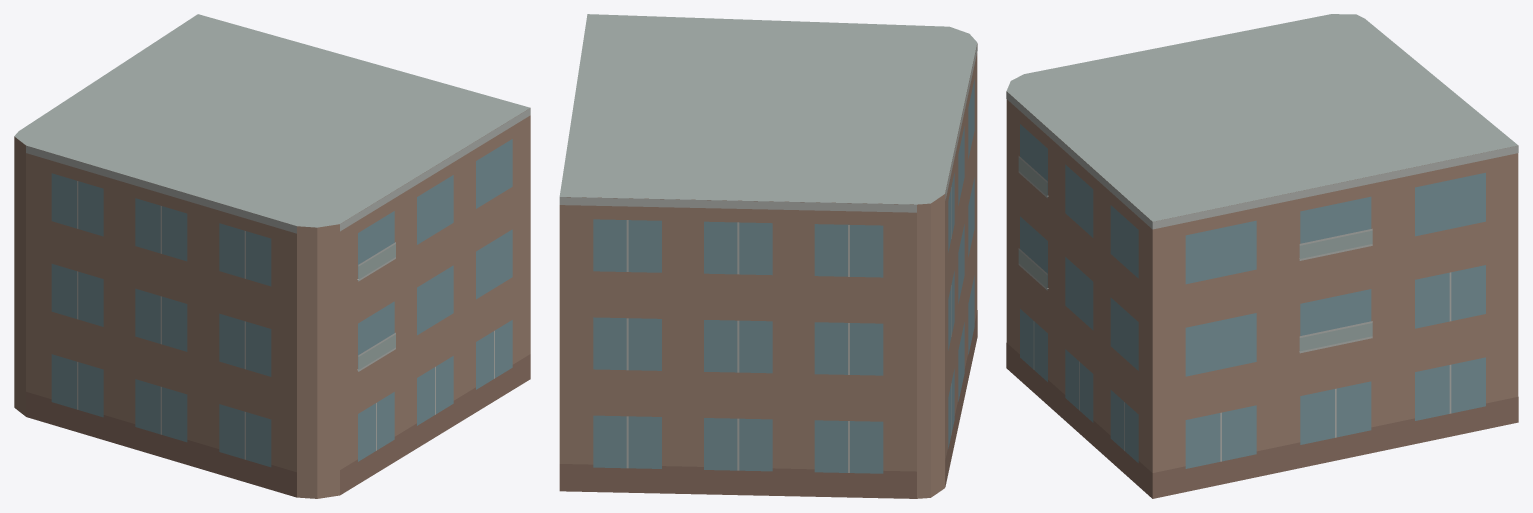
File: survey-upis-32878110.glb
3 views of the same model, side by side, from view 1: azimuth 30°, elevation 25°; view 2: azimuth 150°, elevation 25°; view 3: azimuth 270°, elevation 25° (orthographic). The views are drawn at different scales.
Parts seen in each view (by area): view 1: survey-upis-32878110.tmp; view 2: survey-upis-32878110.tmp; view 3: survey-upis-32878110.tmp.
Part boxes in pixels (x1,y1,x2,y2): survey-upis-32878110.tmp: (14,14,530,498); survey-upis-32878110.tmp: (559,14,977,498); survey-upis-32878110.tmp: (1006,14,1518,498).
Bounding box in the file's own units: 14.17 × 8.8 × 14.75.
